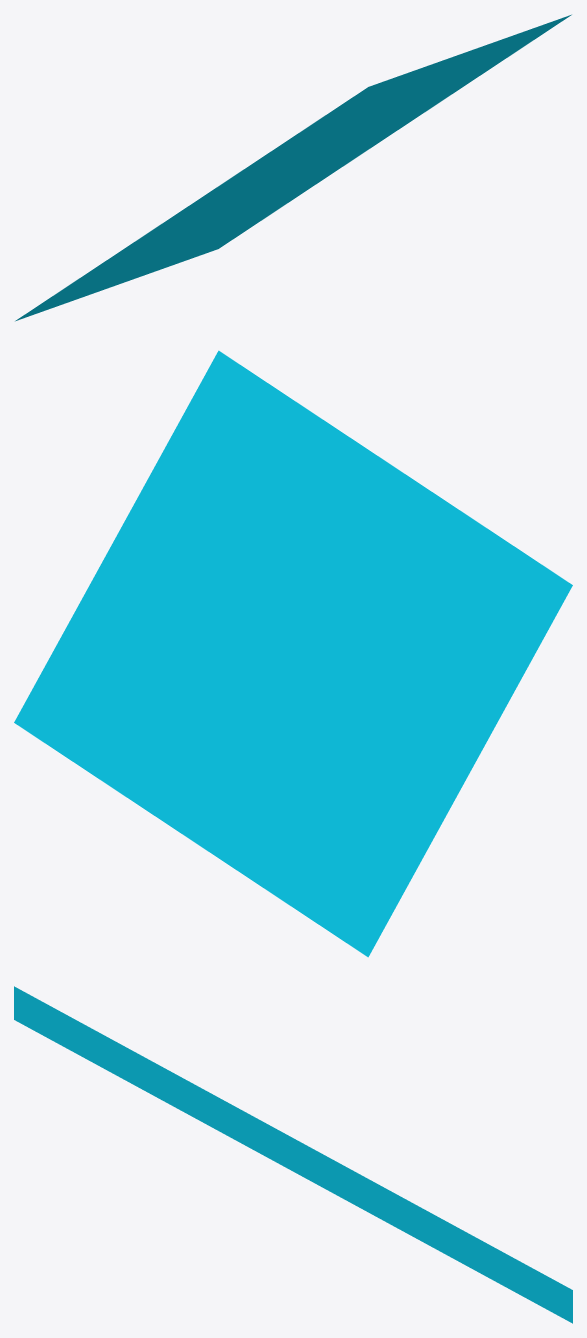
File: graph_0dc802b7.glb
3 views of the same model, one above another, from view 1: azimuth 30°, elevation 25°; view 2: azimuth 150°, elevation 25°; view 3: azimuth 270°, elevation 25° (orthographic). The views are drawn at different scales.
Visible parts, largest first — view 1: geometry_0; view 2: geometry_0; view 3: geometry_0.
Part boxes in pixels (x1=…): geometry_0: x1=15, y1=14, x2=571, y2=321; geometry_0: x1=14, y1=350, x2=572, y2=957; geometry_0: x1=14, y1=986, x2=572, y2=1323.
Bounding box in the file's own units: 1 × 1 × 1.
